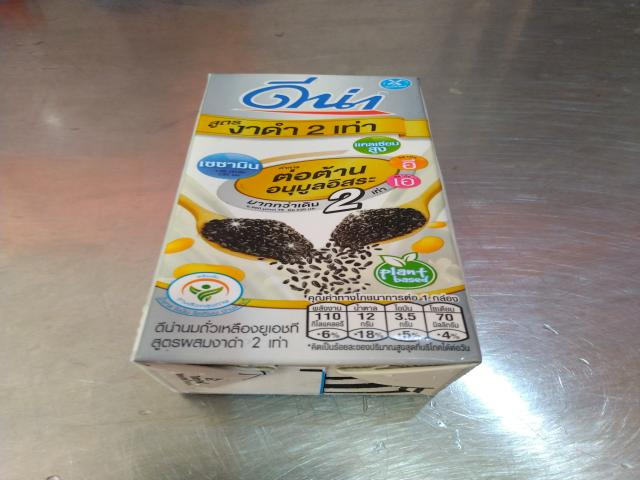drink_box: (115, 60, 517, 422)
